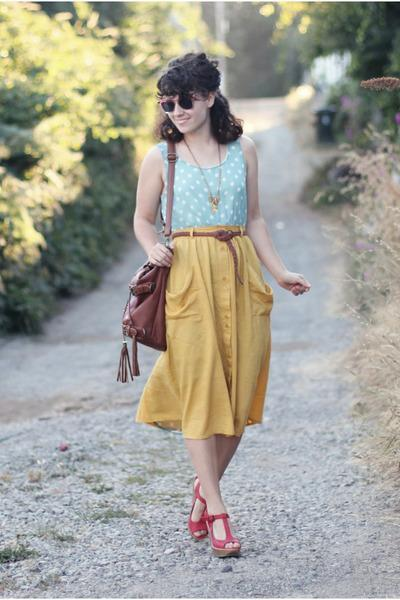bag: (111, 142, 180, 382)
shirt: (162, 146, 245, 227)
shoe: (189, 497, 247, 560)
skirt: (138, 225, 275, 438)
